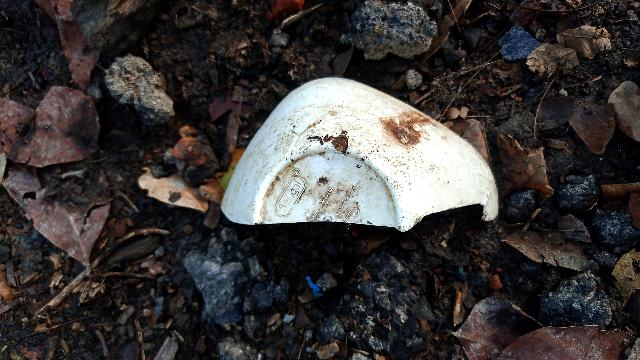hardplastic: (215, 56, 516, 232)
